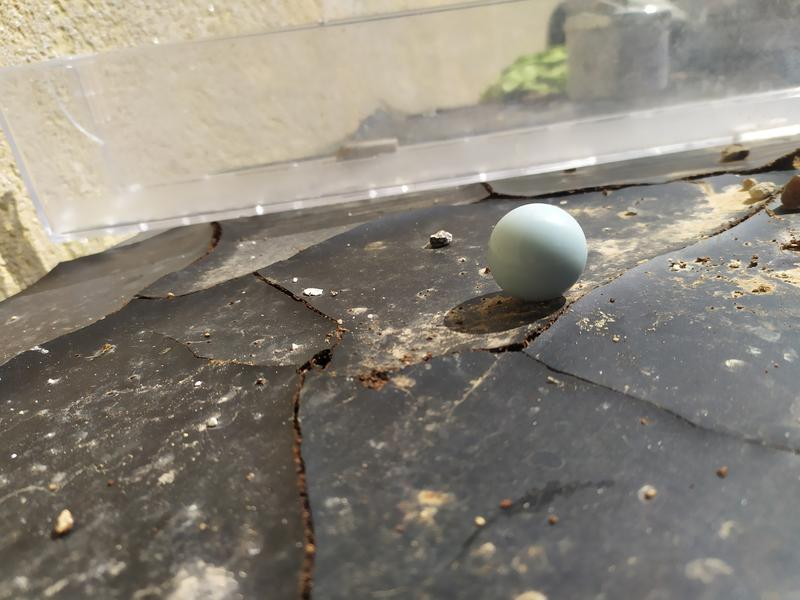Warning: (481, 201, 592, 306)
